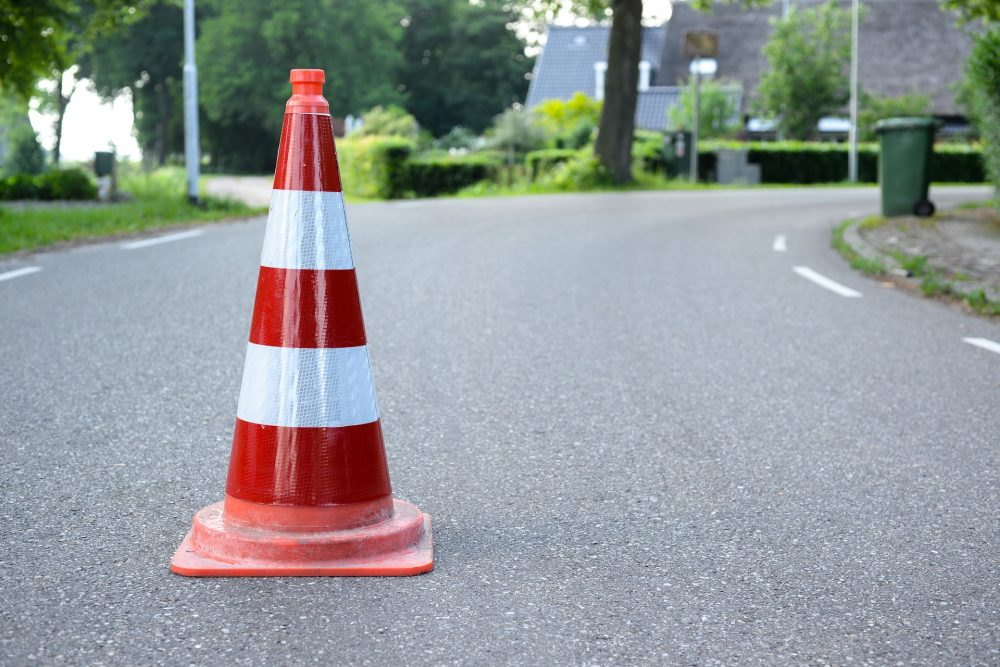cones: (171, 63, 443, 582)
